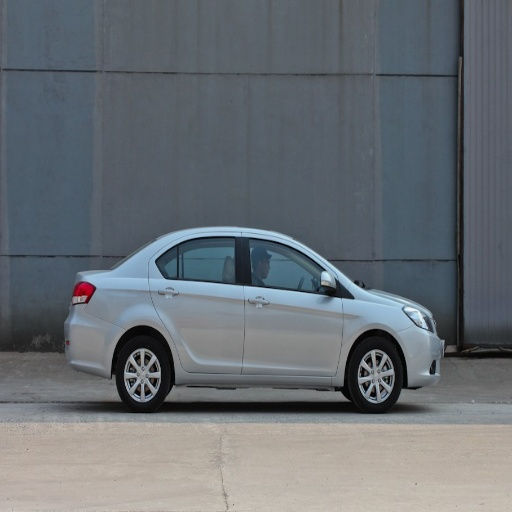back_right_door: (153, 234, 242, 370)
front_right_door: (243, 235, 343, 374)
